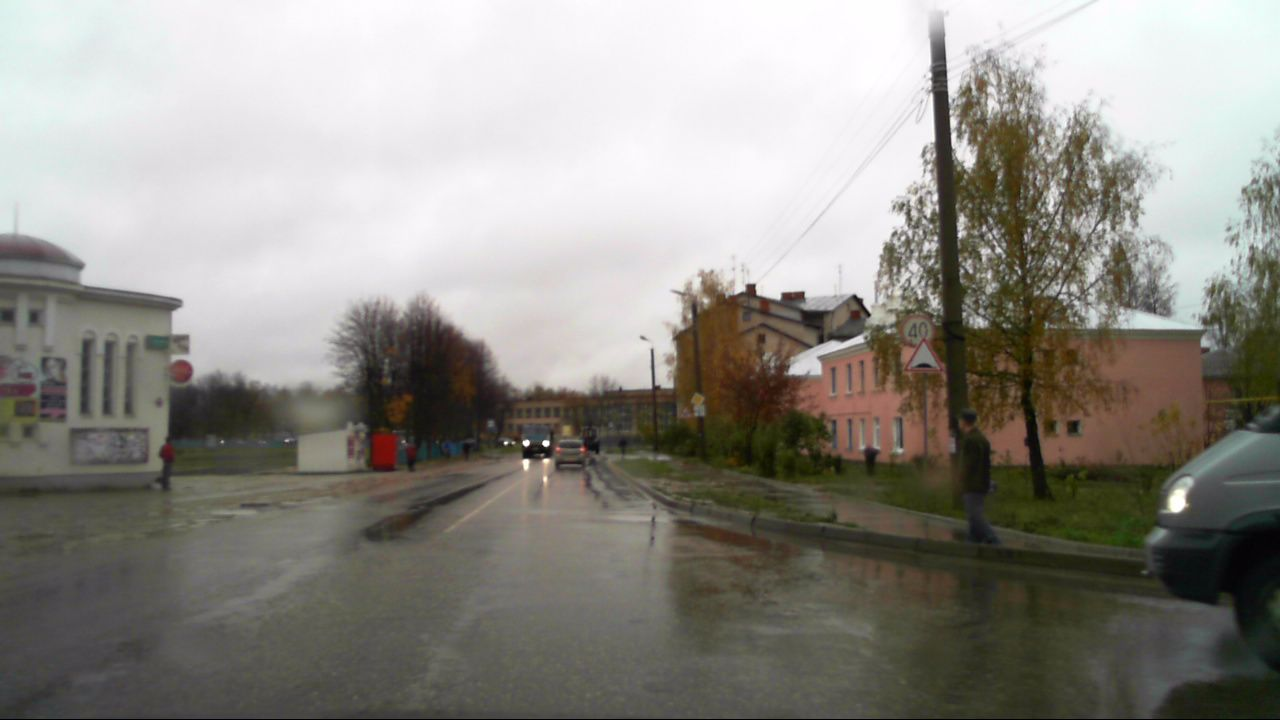speed_warning_40: (900, 315, 934, 348)
